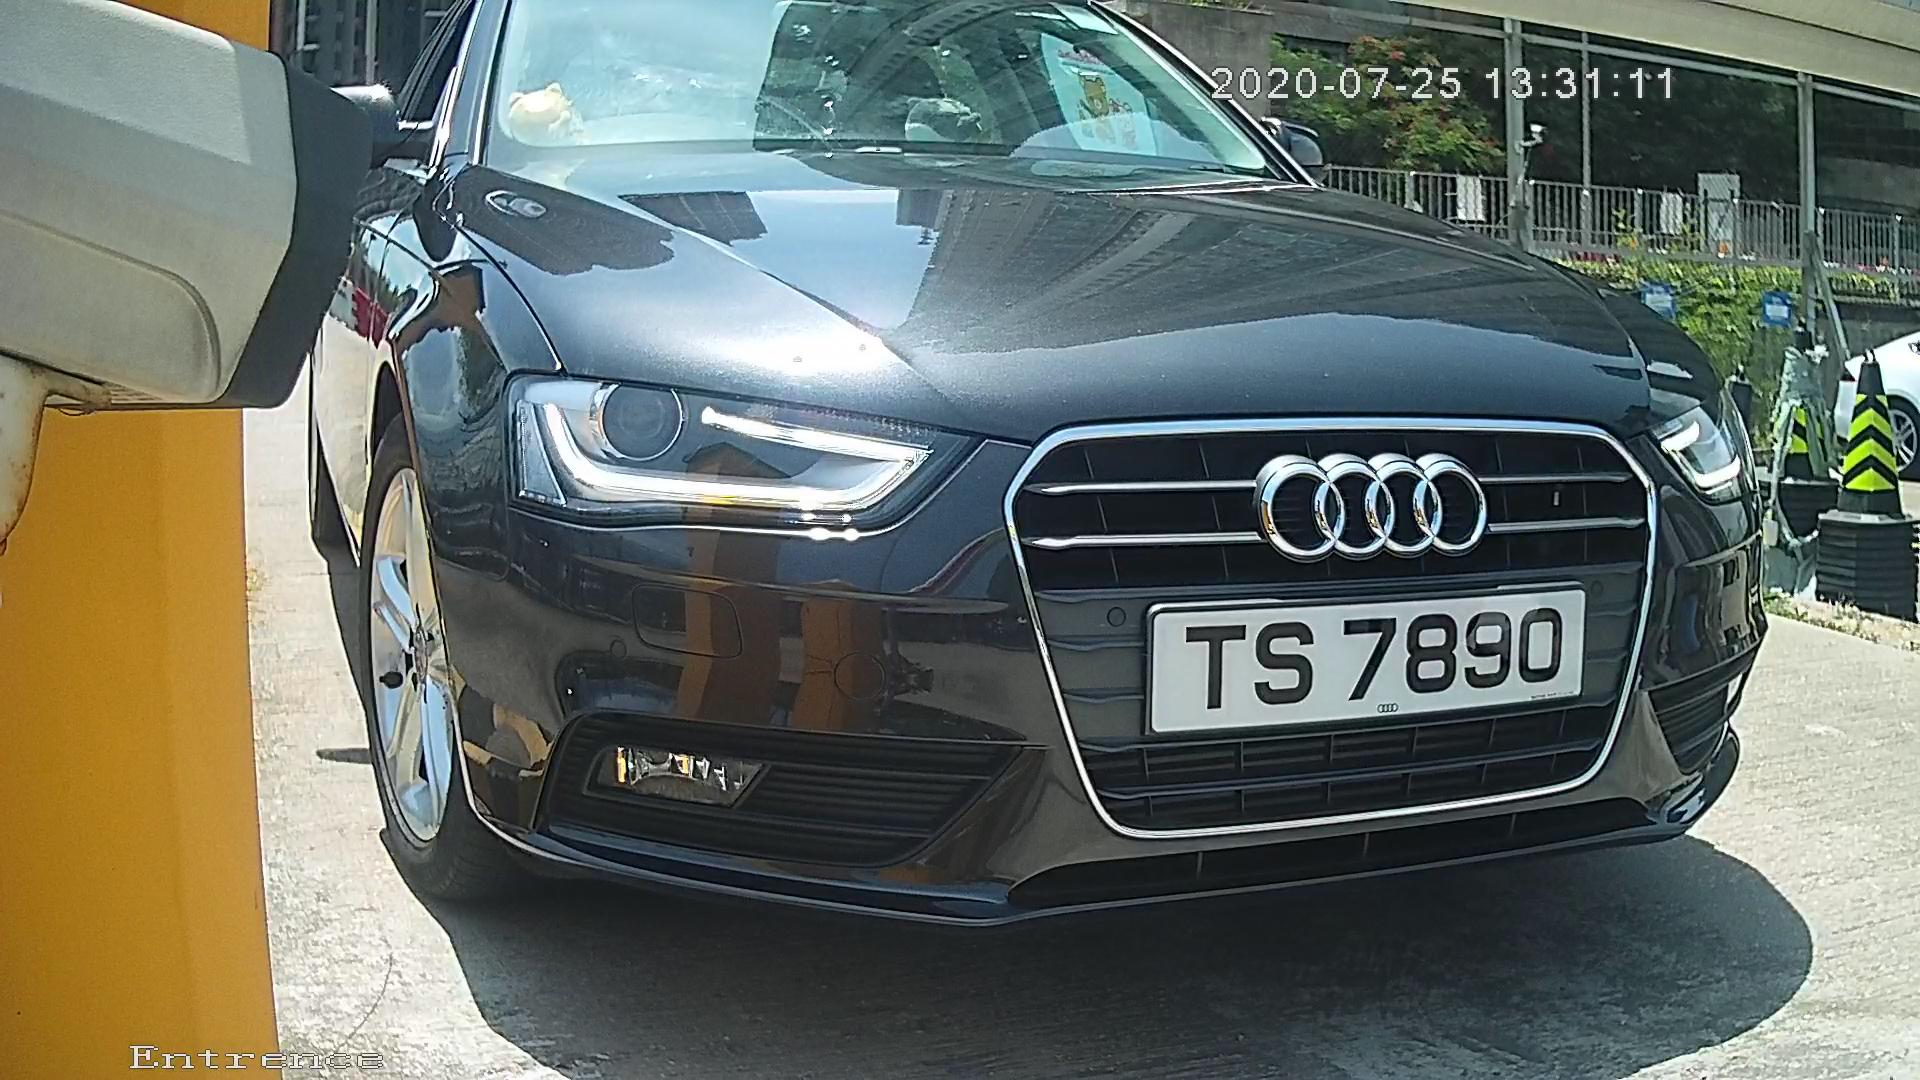License Plate: (1141, 579, 1603, 738)
